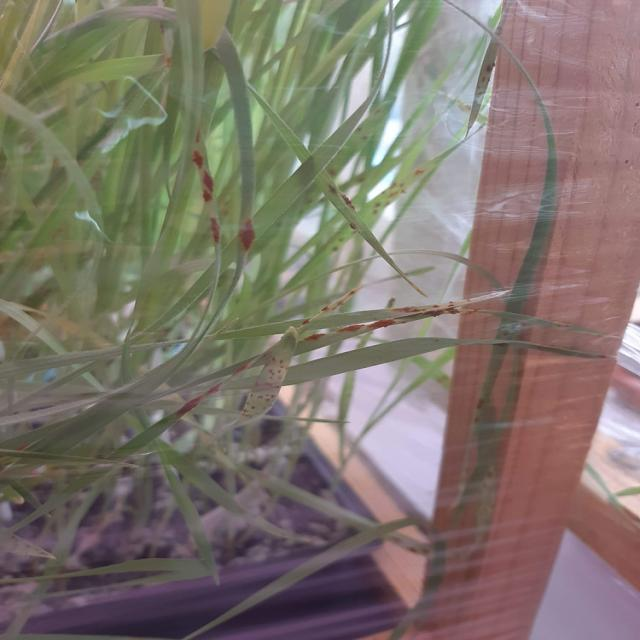wheat-stemrust: (295, 309, 481, 356), (168, 352, 265, 428), (193, 131, 221, 248), (312, 172, 362, 237), (235, 208, 257, 264)
